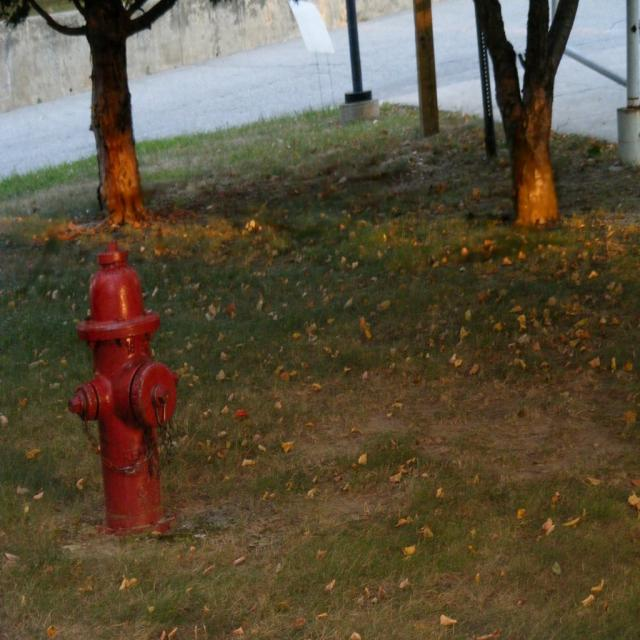fire_hydrant: (69, 242, 180, 532)
